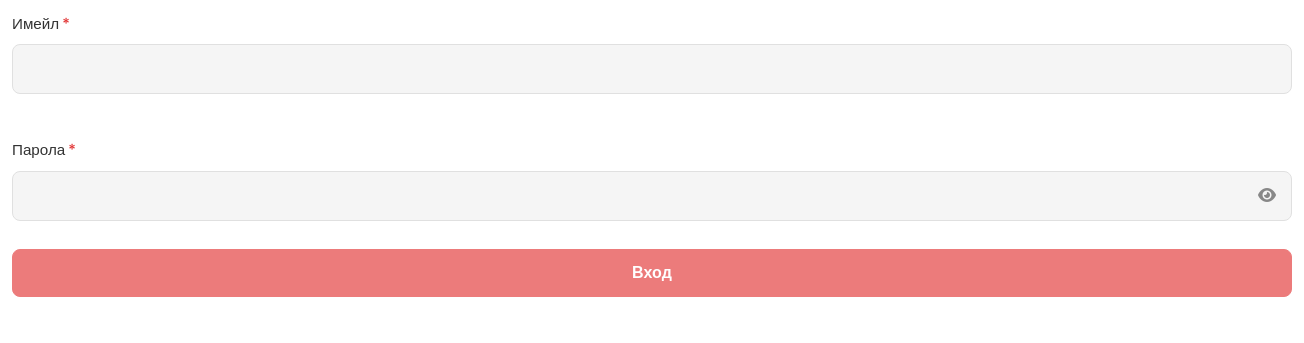
Test: LoginForm компонент › валидира минимална дължина на паролата
The width and height of the screenshot is (1304, 343).
Въвеждаме твърде кратка парола
Type "123" into the password field labelled "Парола*" at {"x": 652, "y": 196}, box [12,171,1292,221]
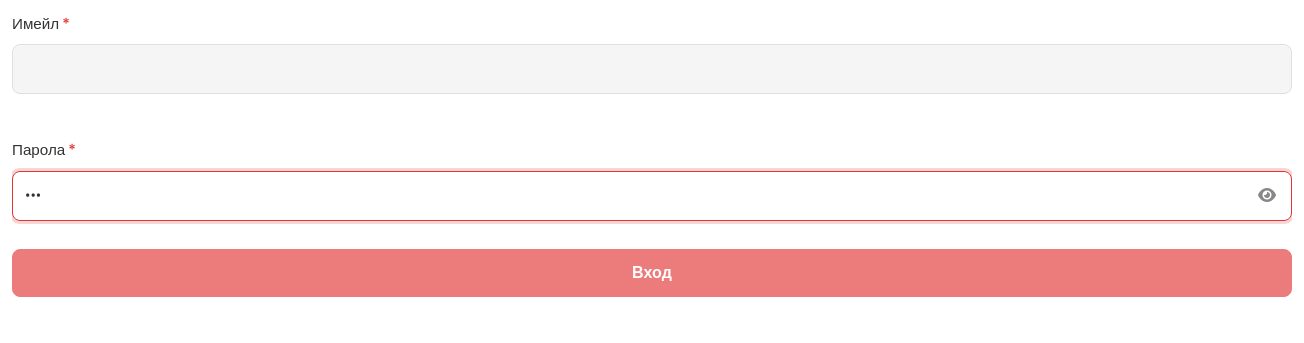
Press Tab
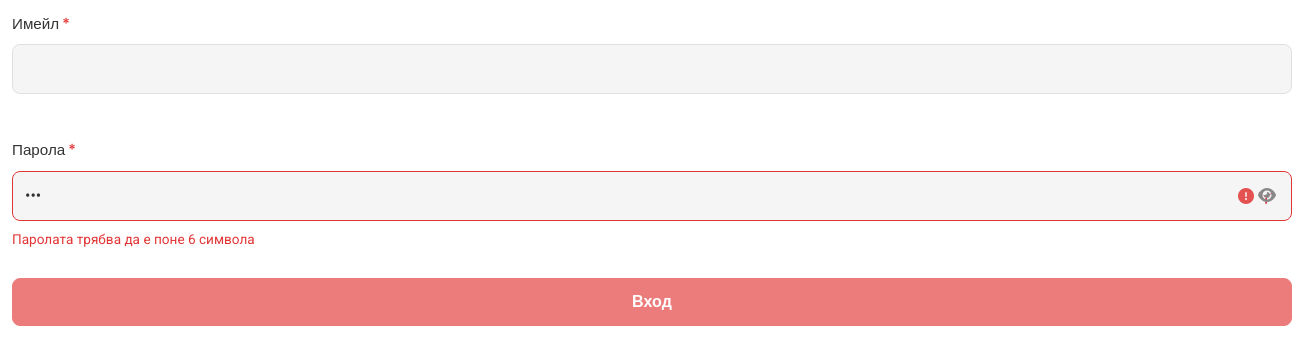
Expected: the text "Паролата трябва да е поне 6 символа" is shown, [12,231,255,247]
